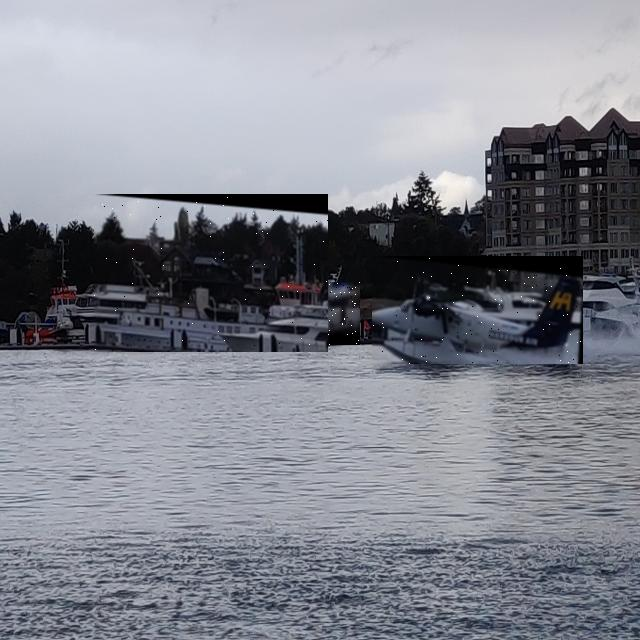aircraft: (372, 256, 583, 364)
boat: (94, 194, 328, 352), (218, 282, 360, 345)
